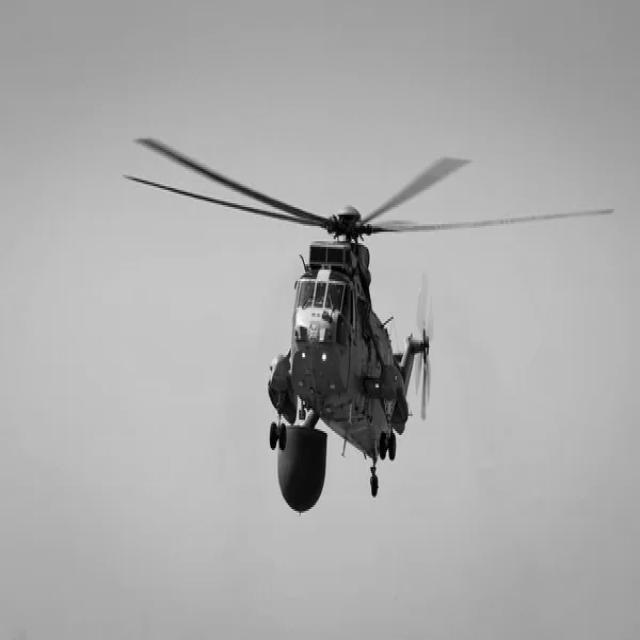Helicopter: (127, 138, 602, 512)
